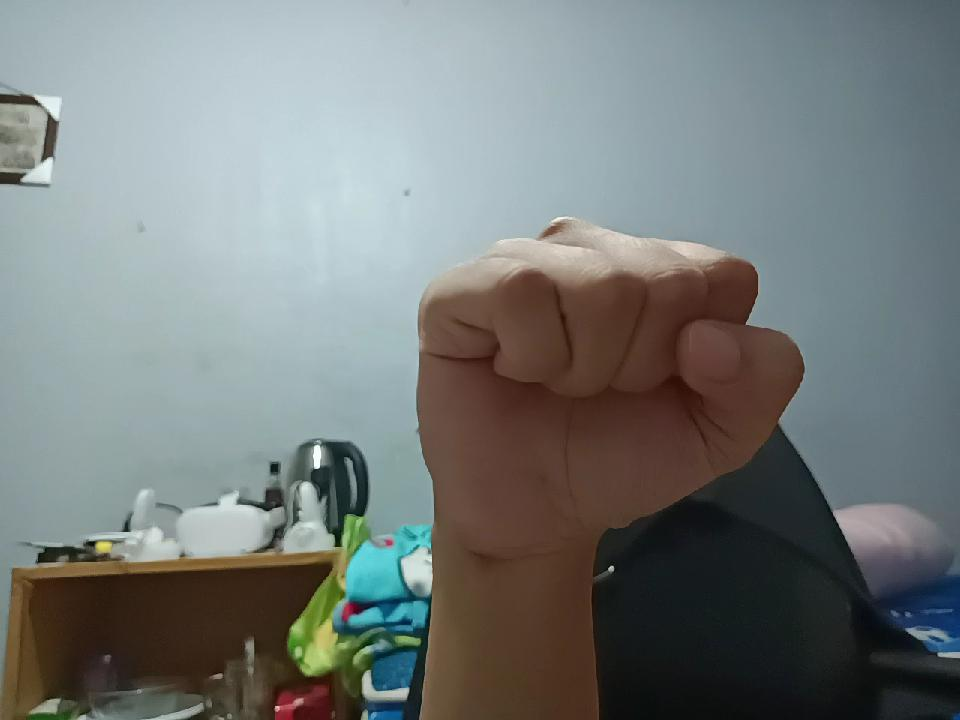rock: (430, 211, 782, 574)
